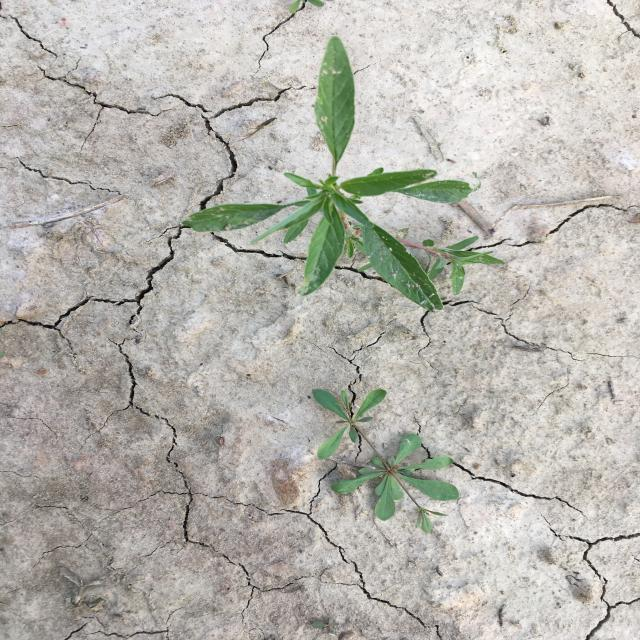Carpetweed: (309, 386, 462, 535)
Waterhemp: (180, 34, 508, 315)
